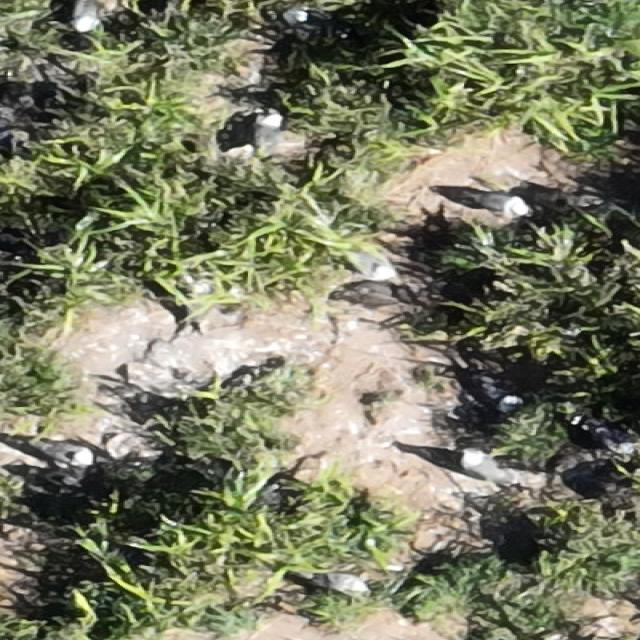umineko: (342, 241, 398, 278), (32, 436, 96, 468), (462, 449, 508, 486), (470, 189, 529, 215), (482, 376, 520, 416), (308, 572, 374, 594), (251, 108, 280, 150), (69, 3, 103, 34)
